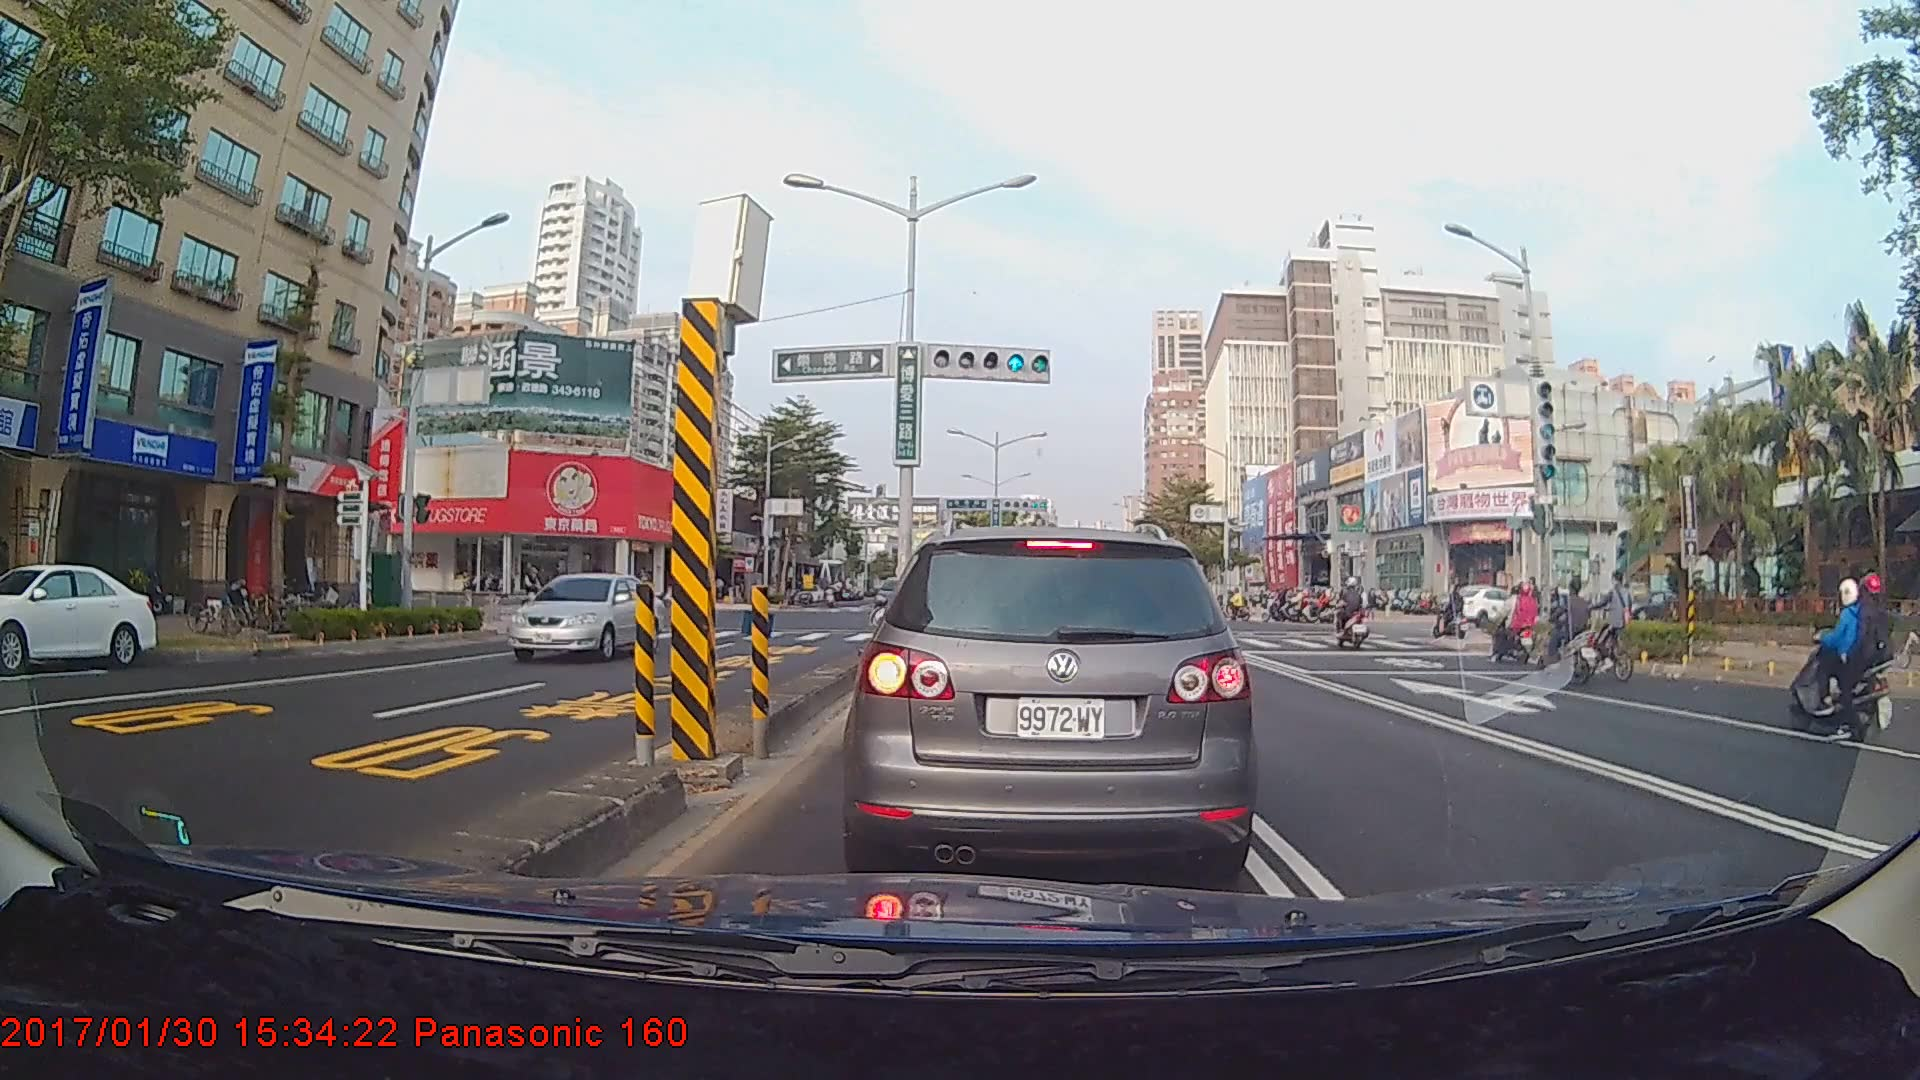rider: (1788, 574, 1899, 747), (1536, 579, 1616, 685), (1580, 570, 1645, 685), (1485, 582, 1548, 668), (1327, 576, 1377, 646), (1436, 582, 1473, 646)
vehicle: (854, 523, 1251, 879), (0, 561, 155, 671), (504, 570, 667, 664), (1441, 585, 1531, 630)
